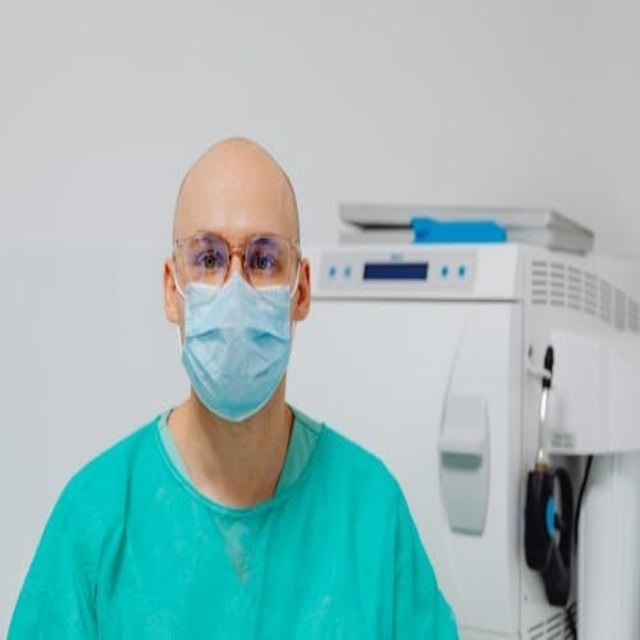Gafas: (172, 232, 303, 294)
Mascara: (176, 268, 295, 421)
